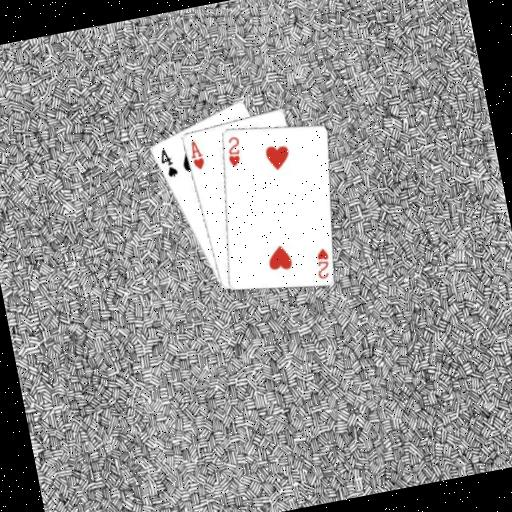2H: (310, 244, 334, 282), (221, 132, 245, 169)
4S: (155, 144, 180, 181)
AH: (185, 136, 207, 172)
